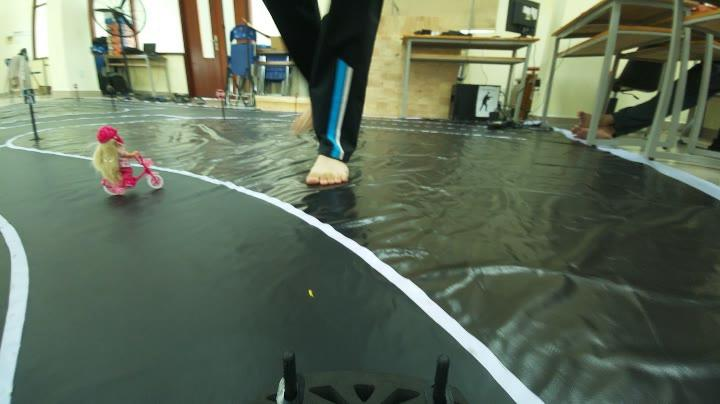pedestrian: (75, 122, 169, 190)
